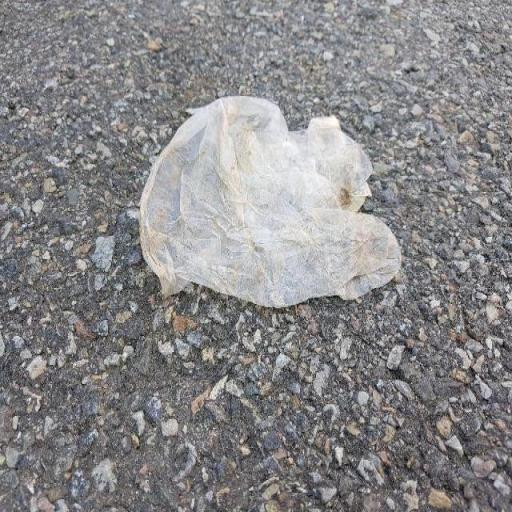plastic-bag: (137, 91, 404, 308)
